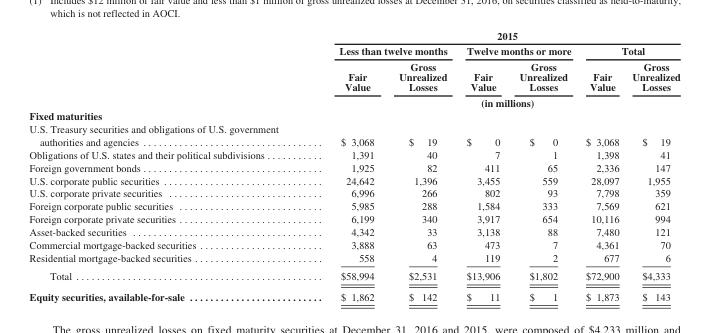table: (28, 29, 679, 302)
table column: (28, 29, 308, 302), (308, 29, 385, 302), (385, 29, 456, 302), (509, 29, 577, 302), (625, 29, 679, 302), (456, 29, 509, 302), (577, 29, 625, 302)
table column header: (28, 29, 679, 108)
table projected row header: (28, 108, 679, 121)
table row: (28, 58, 679, 94), (28, 121, 679, 147), (28, 266, 679, 285), (28, 285, 679, 302), (28, 42, 679, 58), (28, 251, 679, 266), (28, 94, 679, 108), (28, 29, 679, 42), (28, 108, 679, 121), (28, 147, 679, 160), (28, 160, 679, 173), (28, 173, 679, 186), (28, 186, 679, 199), (28, 199, 679, 212), (28, 212, 679, 225), (28, 225, 679, 238), (28, 238, 679, 251)
table spanning cell: (308, 94, 679, 108), (308, 29, 679, 42), (308, 42, 456, 58), (456, 42, 577, 58), (577, 42, 679, 58)
